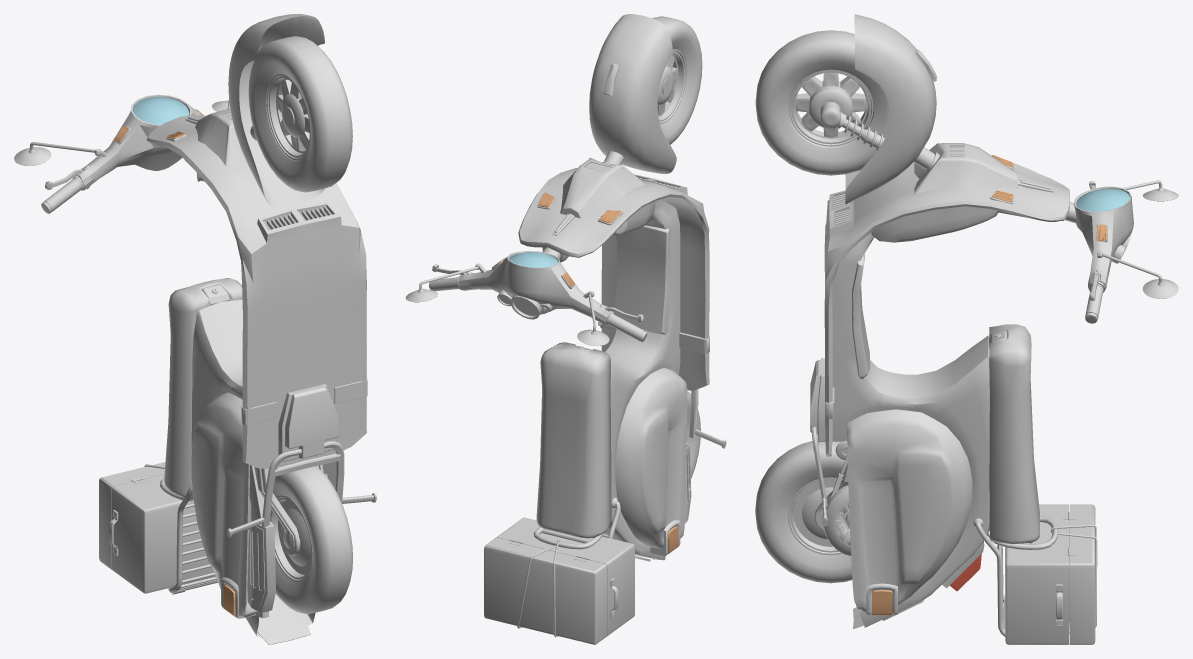
Rendered from Scooter_axis.fbx.
The picture shows the model from 3 angles, left to right: view 1: azimuth 30°, elevation 25°; view 2: azimuth 150°, elevation 25°; view 3: azimuth 270°, elevation 25°; orthographic projection. The views are drawn at different scales.
Parts seen in each view (by area): view 1: Vespa.001; view 2: Vespa.001; view 3: Vespa.001.
Part boxes in pixels (left/top/right/bottom): Vespa.001: left=14, top=14, right=376, bottom=644; Vespa.001: left=405, top=14, right=726, bottom=644; Vespa.001: left=755, top=14, right=1178, bottom=644.
Size of the model in its own units: 89.22 by 217 by 136.
